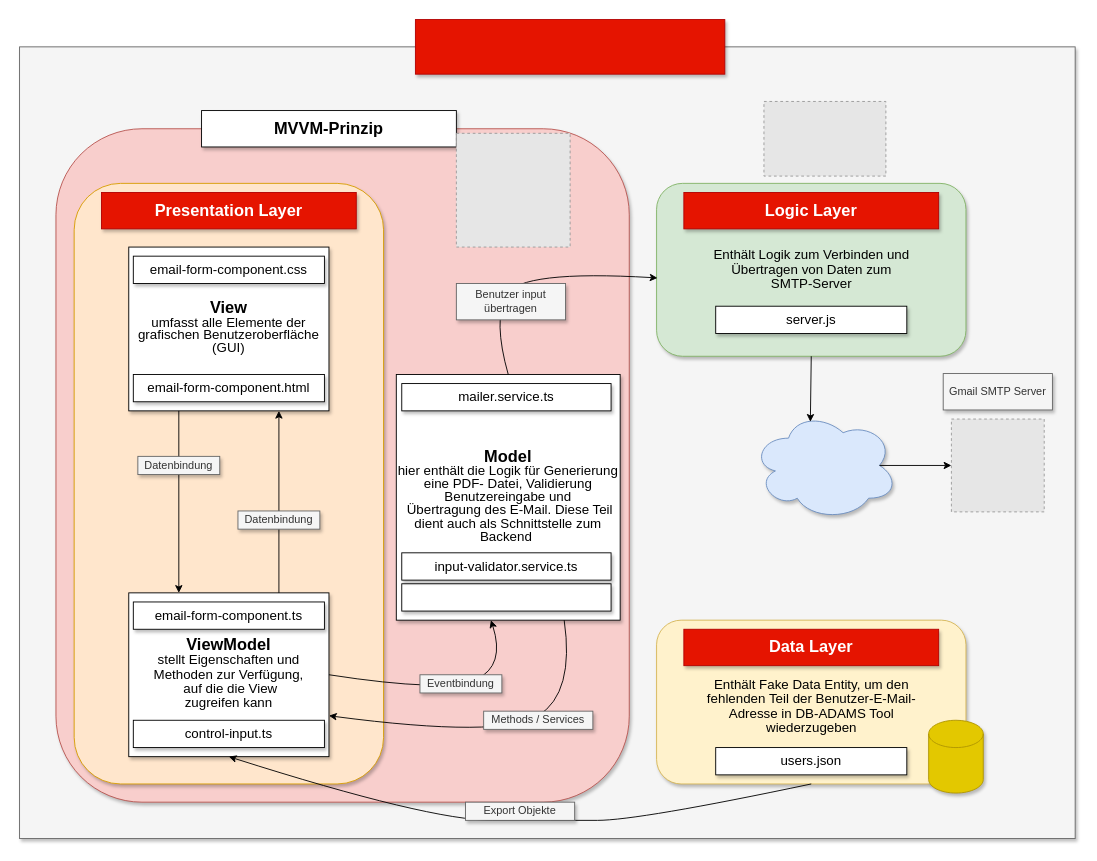
Some shapes in this 1097 by 861 pixel diagram are drawn without their labels. Grey dashed boxes stand in for pictures. Here are the shapes that lost their labels. From the top down, the centre of each, then its label:
At point (570, 48): "Anwendungsarchitektur".
At point (825, 466): "Internet".
At point (507, 598): "pdfGenerator.service.ts".
